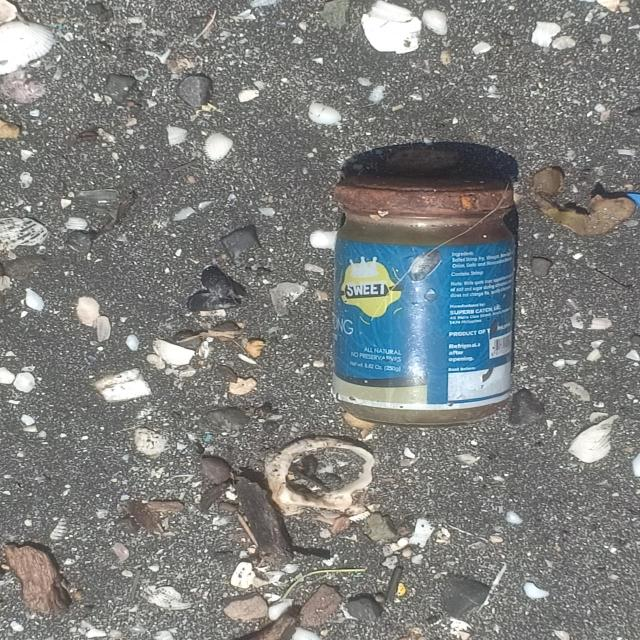litter: (329, 177, 516, 427)
